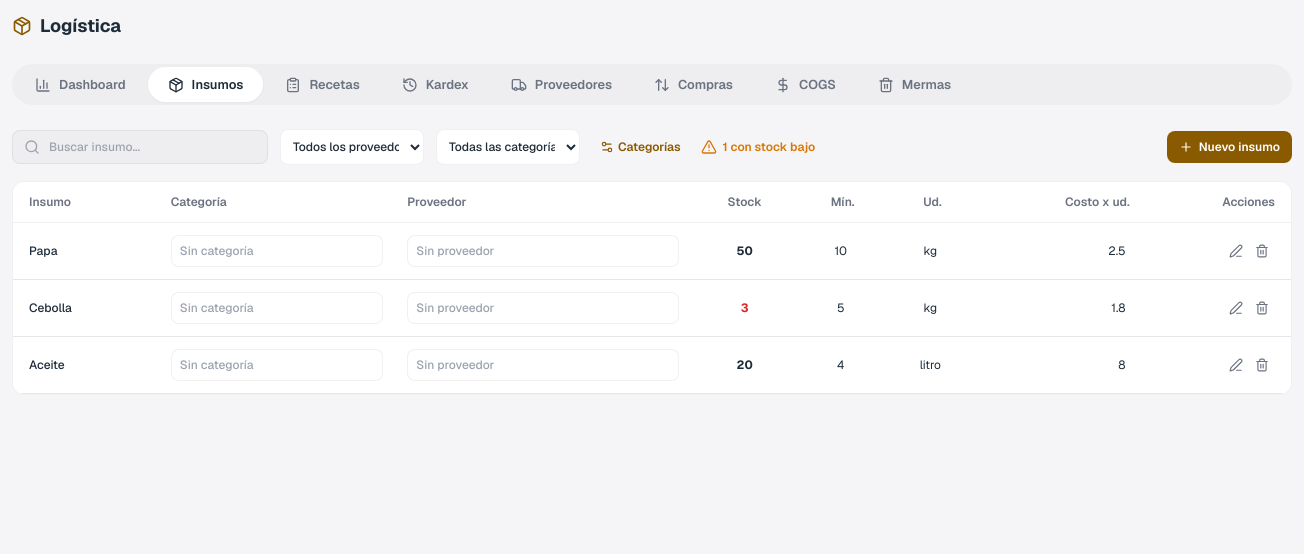
it: IngredientsSection › closes form on cancel
Click the button "Nuevo insumo".
click(1229, 147)  # box [1167,131,1292,163]
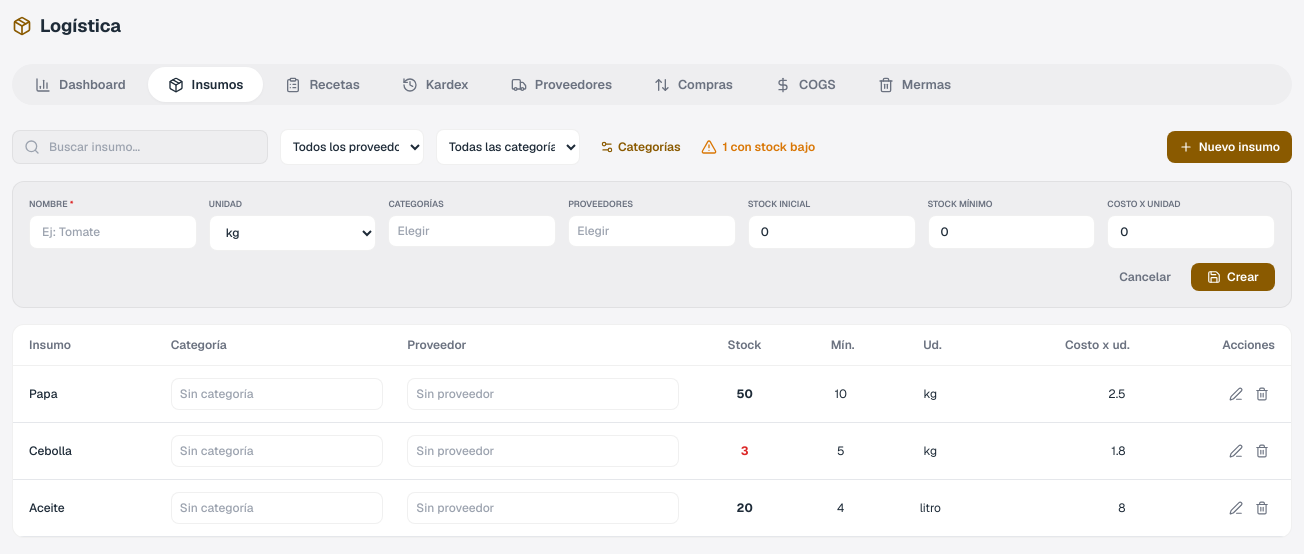
Now the field labelled "Nombre *" is shown, box [29,215,197,249]
Click the button "Cancelar".
click(1145, 277)  # box [1107,263,1183,291]
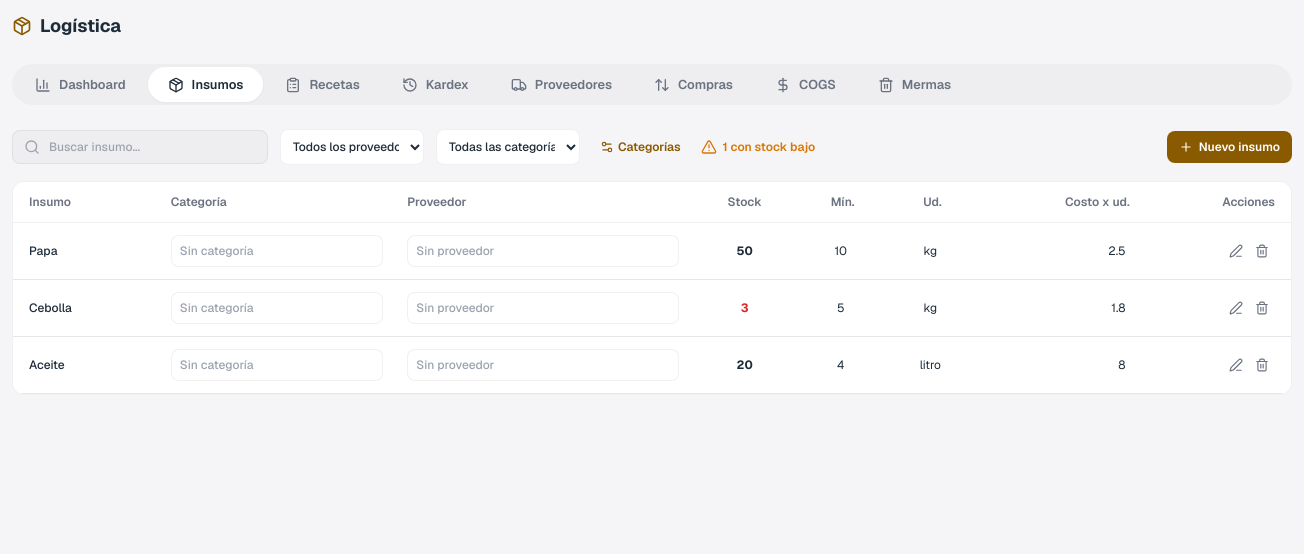
Now the label labelled "Nombre" is gone
